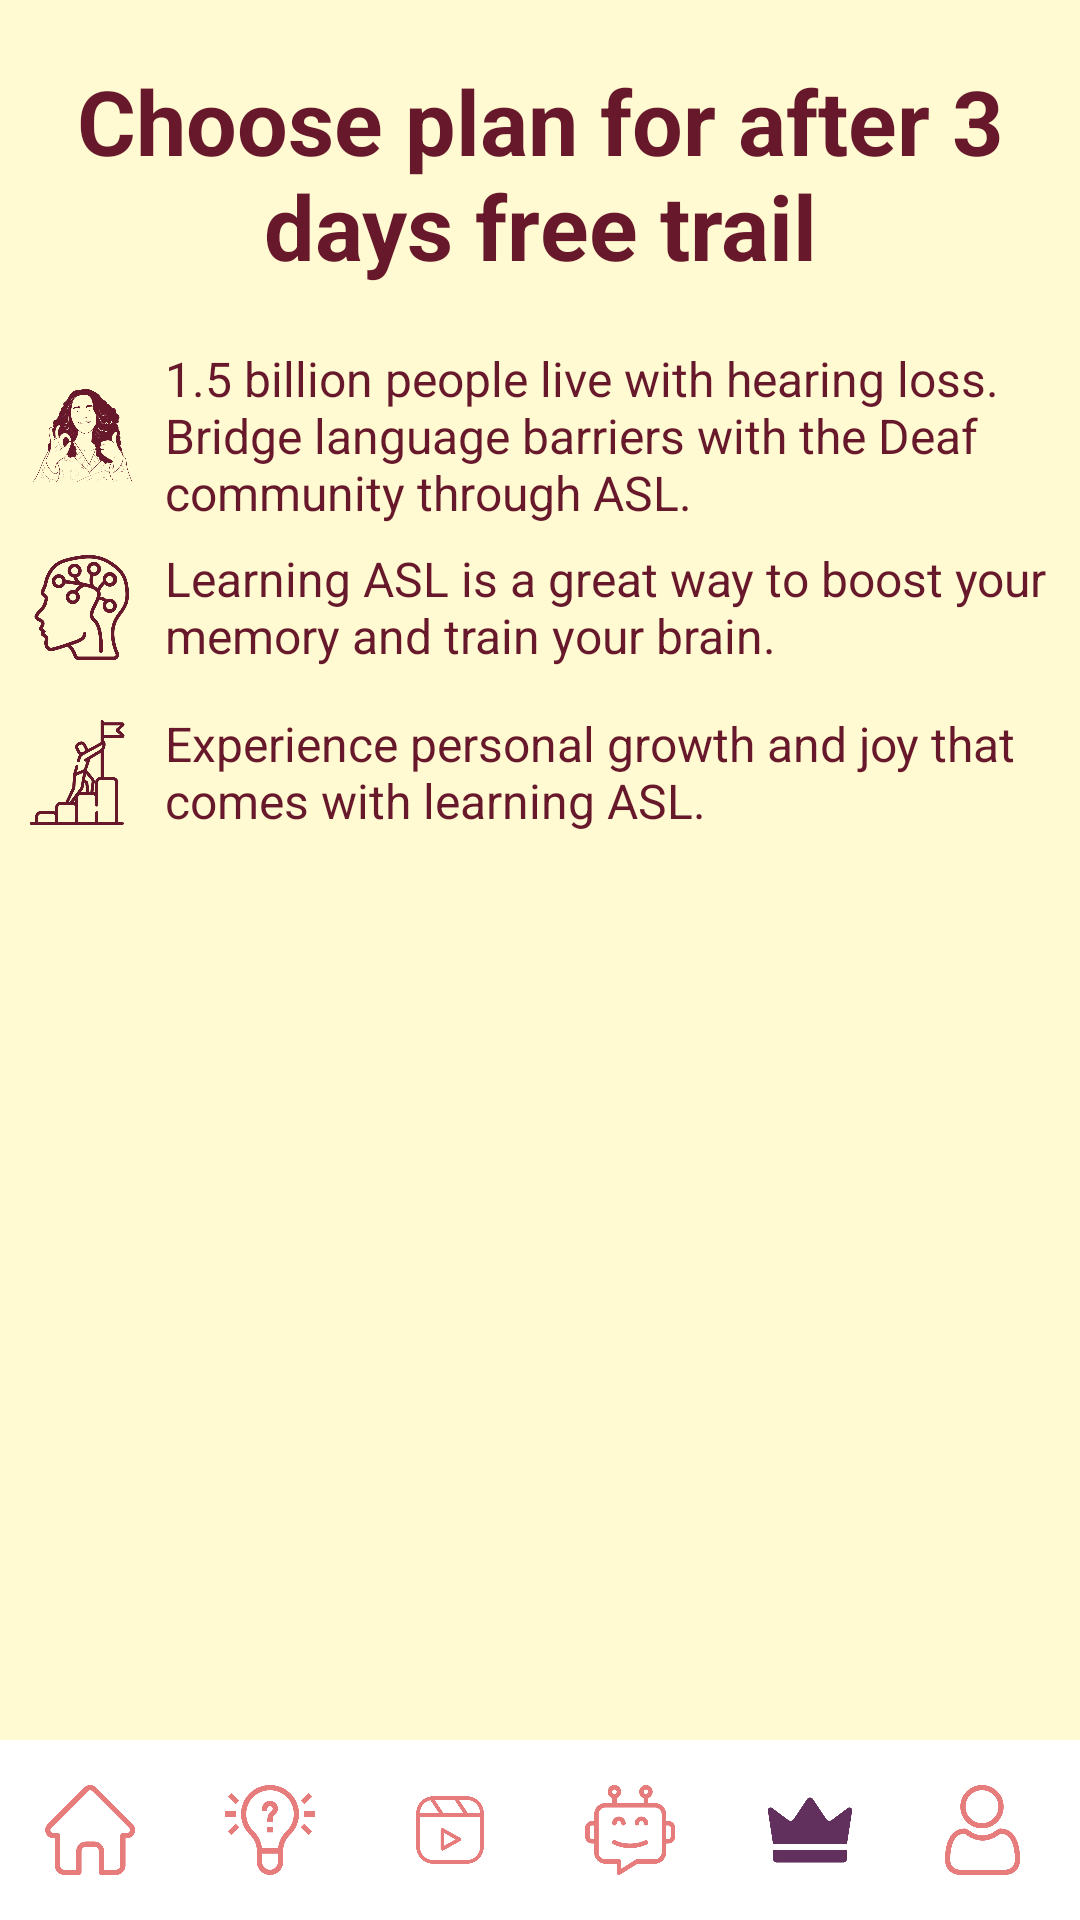

Named icons in this screenshot (1080px×1920px) and their centers, (x,y):
bot: (630,1830)
crown: (810,1830)
goal: (77,772)
home: (90,1830)
ideas: (270,1830)
user: (982,1830)
